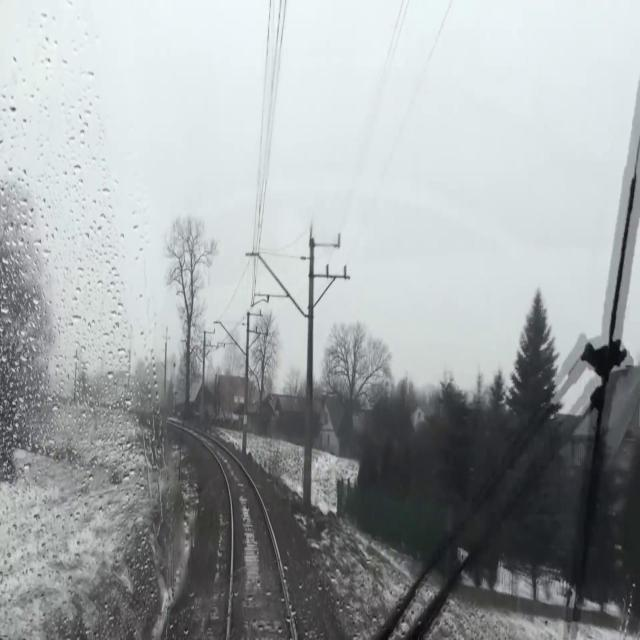rail-track: (209, 442, 293, 639)
